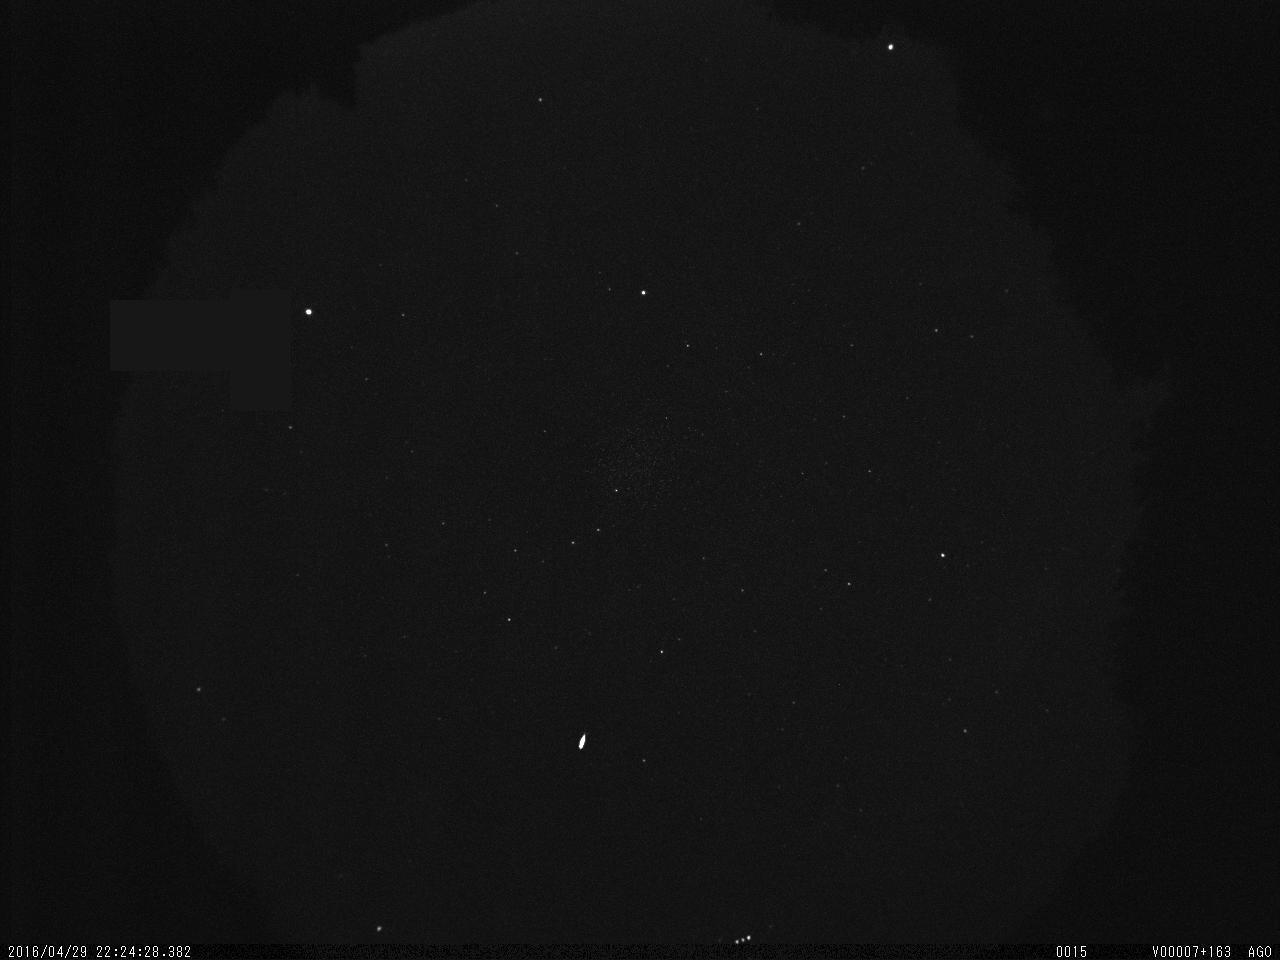Meteor: (575, 729, 588, 751)
